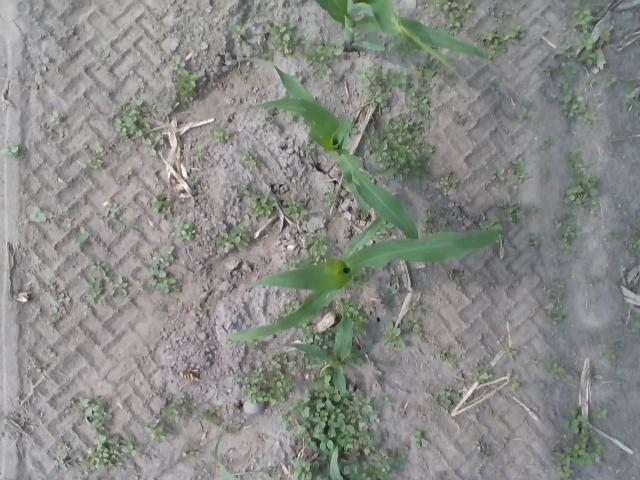Weeds: (286, 387, 382, 458), (364, 112, 436, 186), (554, 405, 607, 479), (240, 352, 298, 407), (548, 31, 612, 70), (562, 158, 602, 214), (84, 432, 140, 472), (116, 103, 158, 150), (87, 263, 131, 305), (146, 246, 181, 296), (356, 65, 394, 111), (429, 0, 478, 34), (560, 82, 598, 124), (265, 18, 306, 56), (170, 57, 199, 108), (476, 27, 520, 58), (212, 223, 253, 256), (79, 396, 114, 432), (245, 190, 277, 222), (300, 231, 330, 265), (406, 300, 430, 342), (554, 213, 580, 250), (493, 156, 528, 183), (140, 416, 176, 442), (162, 397, 195, 425), (612, 76, 638, 109), (380, 319, 406, 351), (432, 385, 464, 409), (307, 40, 338, 64), (574, 2, 598, 32), (498, 196, 524, 223), (542, 359, 572, 382), (300, 324, 330, 344), (54, 442, 75, 470), (283, 197, 308, 220), (106, 203, 126, 230), (407, 92, 431, 114), (200, 408, 228, 426), (350, 304, 370, 329), (389, 68, 409, 92), (422, 212, 448, 229), (152, 194, 173, 215), (177, 220, 197, 242), (238, 146, 260, 166), (85, 150, 106, 170), (475, 362, 495, 383), (210, 126, 234, 143), (438, 349, 459, 368), (312, 61, 332, 80), (413, 426, 431, 447), (550, 281, 566, 303), (74, 227, 90, 249), (602, 345, 622, 362), (417, 66, 438, 82), (524, 202, 542, 220), (548, 311, 568, 327), (323, 188, 339, 207), (615, 202, 632, 219), (518, 104, 534, 122), (438, 175, 460, 188), (593, 404, 611, 418), (315, 66, 333, 79), (5, 144, 24, 156), (508, 372, 522, 388), (231, 22, 245, 38), (528, 232, 541, 248), (183, 447, 196, 463), (477, 444, 494, 456), (506, 347, 520, 360), (302, 138, 316, 151), (606, 132, 619, 144), (233, 184, 247, 194), (257, 472, 279, 478)
